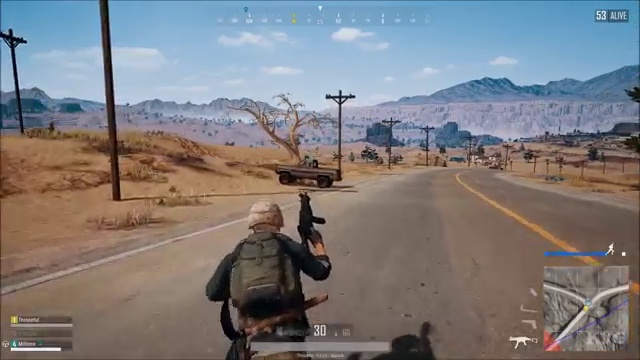Player: (203, 193, 344, 319)
